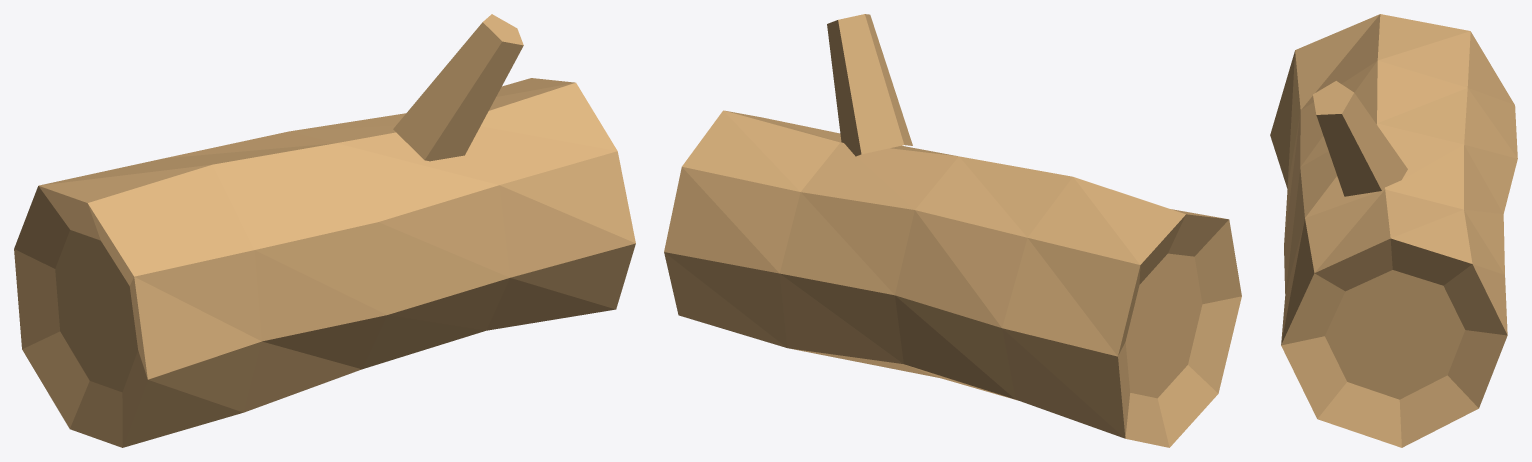
Rendered from FirewoodLog.glb.
The picture shows the model from 3 angles, left to right: view 1: azimuth 30°, elevation 25°; view 2: azimuth 150°, elevation 25°; view 3: azimuth 270°, elevation 25°; orthographic projection. The views are drawn at different scales.
Parts seen in each view (by area): view 1: FirewoodLog; view 2: FirewoodLog; view 3: FirewoodLog.
Boxes of the visible parts, left/top/right/bottom form: FirewoodLog: left=14, top=14, right=635, bottom=447; FirewoodLog: left=664, top=14, right=1241, bottom=447; FirewoodLog: left=1270, top=14, right=1517, bottom=447.
Bounding box in the file's own units: 0.45 × 0.3022 × 0.2136.
